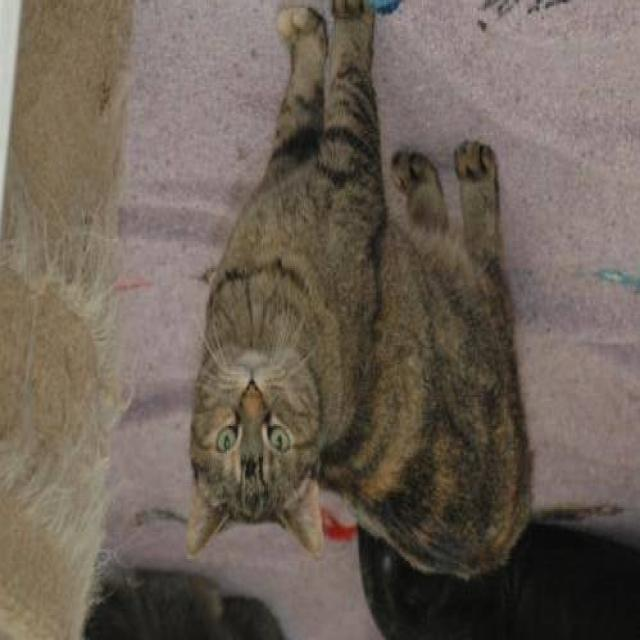Kucing: (153, 93, 567, 602)
